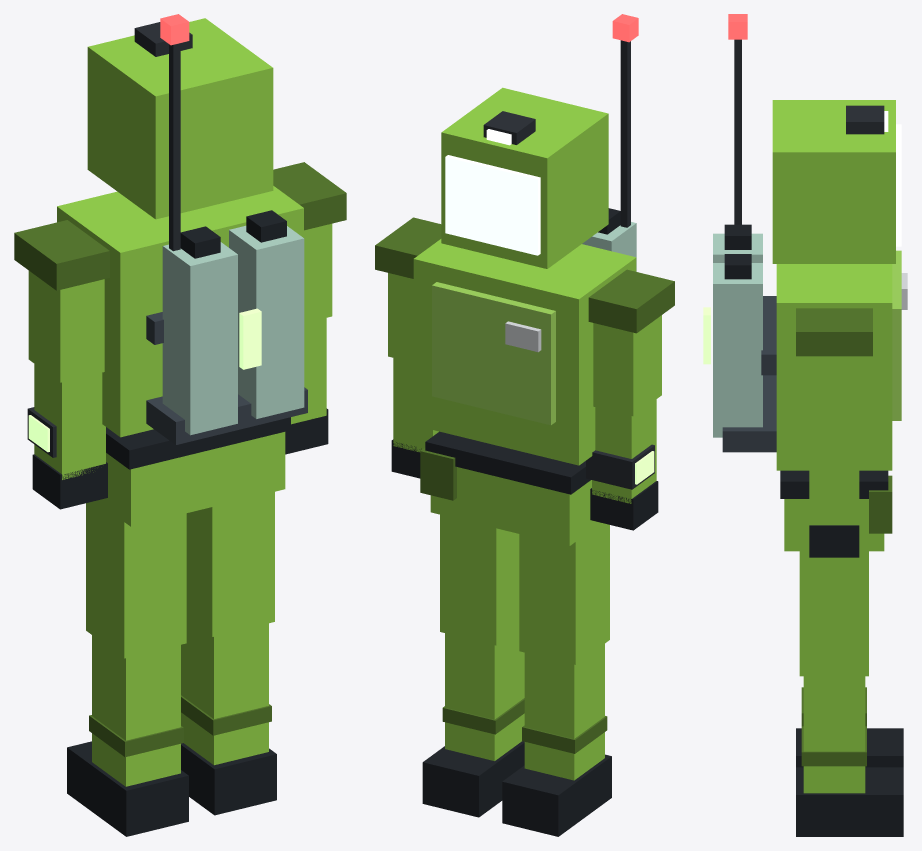
File: bio_tech_lime.glb
3 views of the same model, side by side, from view 1: azimuth 30°, elevation 25°; view 2: azimuth 150°, elevation 25°; view 3: azimuth 270°, elevation 25° (orthographic). The views are drawn at different scales.
Parts seen in each view (by area): view 1: Merged6, Merged, Merged7, Merged8, Merged9, _MeshInstance3D_2519, Merged3, _MeshInstance3D_2530, Merged2, Merged5, Merged4; view 2: Merged6, Merged, Merged7, Merged8, Merged9, _MeshInstance3D_2519, Merged3, _MeshInstance3D_2530, Merged2, Merged5, Merged4; view 3: Merged6, Merged, Merged8, Merged5, _MeshInstance3D_2530, Merged4, Merged9, Merged7.
Boxes of the visible parts, box(x1,y1,x2,y2) form: Merged6: box(57, 14, 307, 444); Merged: box(87, 18, 273, 219); Merged7: box(67, 635, 188, 836); Merged8: box(181, 618, 276, 815); Merged9: box(96, 417, 290, 526); _MeshInstance3D_2519: box(86, 501, 186, 658); Merged3: box(14, 220, 109, 382); _MeshInstance3D_2530: box(186, 492, 274, 636); Merged2: box(27, 364, 107, 509); Merged5: box(273, 162, 346, 322); Merged4: box(285, 318, 328, 454); Merged6: box(413, 14, 638, 465); Merged: box(441, 87, 608, 268); Merged7: box(502, 644, 611, 836); Merged8: box(422, 629, 524, 817); Merged9: box(420, 431, 600, 545); _MeshInstance3D_2519: box(519, 523, 609, 664); Merged3: box(588, 269, 674, 416); _MeshInstance3D_2530: box(440, 514, 519, 645); Merged2: box(586, 399, 658, 530); Merged5: box(375, 217, 441, 362); Merged4: box(391, 358, 438, 478); Merged6: box(703, 14, 907, 470); Merged: box(772, 100, 901, 263); Merged8: box(796, 676, 903, 836); Merged5: box(796, 308, 872, 441); _MeshInstance3D_2530: box(799, 551, 868, 676); Merged4: box(809, 441, 859, 557); Merged9: box(780, 470, 892, 551); Merged7: box(796, 687, 903, 767).
Size of the model in its own units: 0.79 by 2.18 by 0.53.
